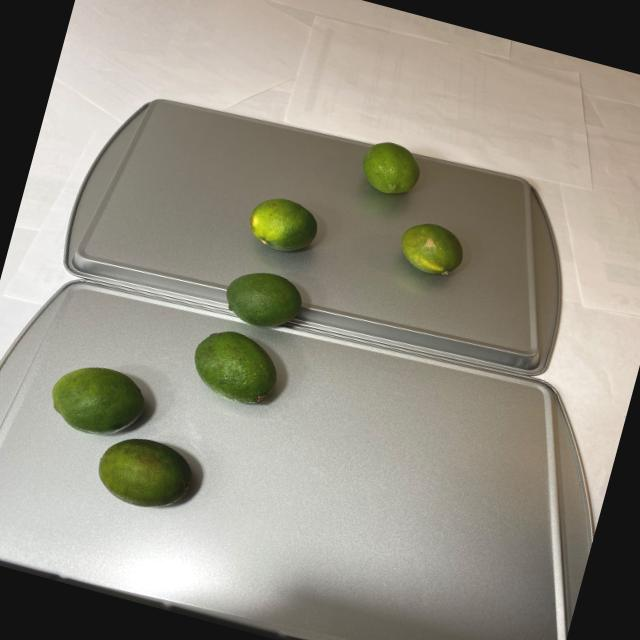lemon: (24, 72, 488, 576)
